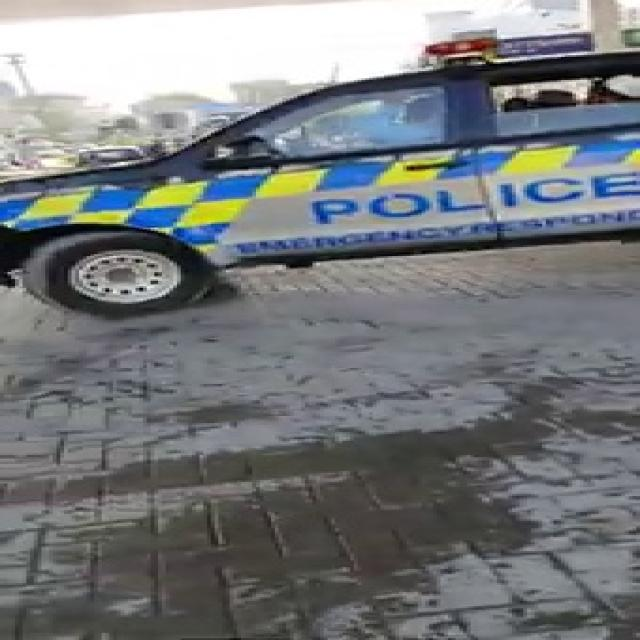police: (0, 0, 640, 299)
